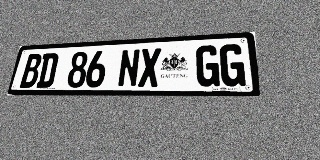6: (84, 50, 108, 87)
8: (66, 51, 90, 88)
B: (19, 54, 43, 88)
D: (36, 53, 59, 88)
G: (220, 44, 246, 86), (196, 45, 220, 87)
N: (117, 49, 140, 87)
X: (138, 48, 161, 87)
